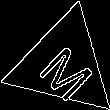M_NE: (29, 30, 97, 98)
